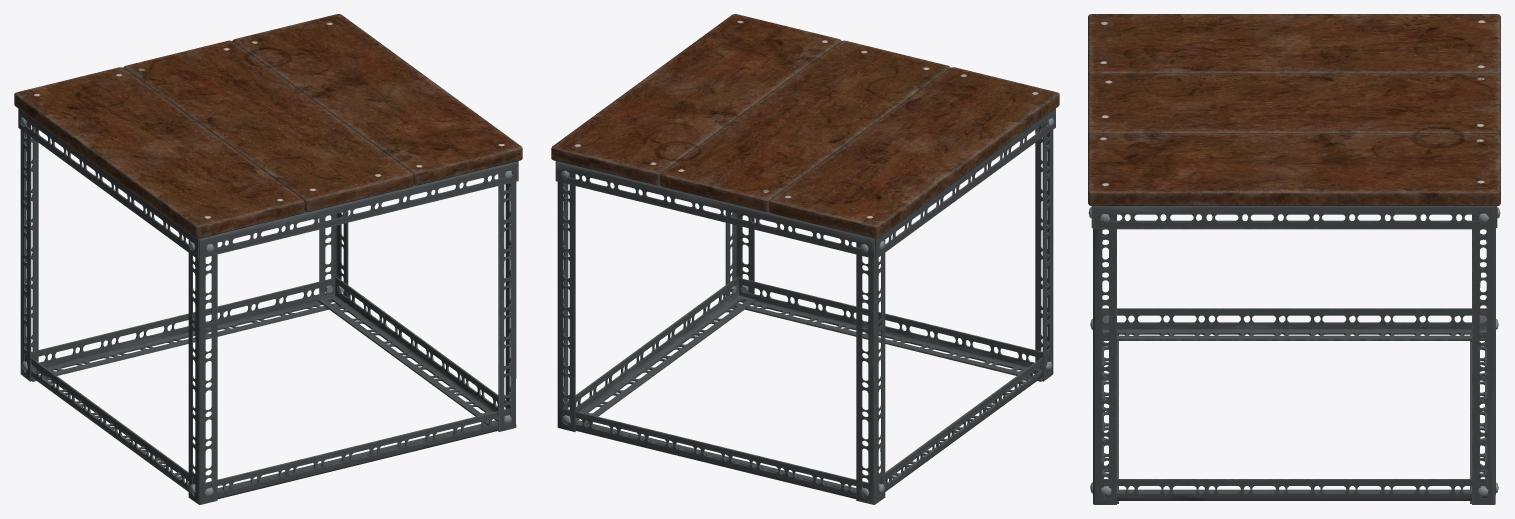
File: polyhaven-industrial-coffee-table.glb
3 renders of one model, left to right at view 1: azimuth 30°, elevation 25°; view 2: azimuth 150°, elevation 25°; view 3: azimuth 270°, elevation 25°, orthographic. The views are drawn at different scales.
Visible parts, largest first — view 1: industrial_coffee_table; view 2: industrial_coffee_table; view 3: industrial_coffee_table.
Part boxes in pixels (bbox=[...]): industrial_coffee_table: bbox=[14, 14, 522, 504]; industrial_coffee_table: bbox=[551, 14, 1059, 504]; industrial_coffee_table: bbox=[1088, 14, 1500, 504].
Size of the model in its own units: 0.7783 by 0.6384 by 0.7579.
1 material, 1 textured.
